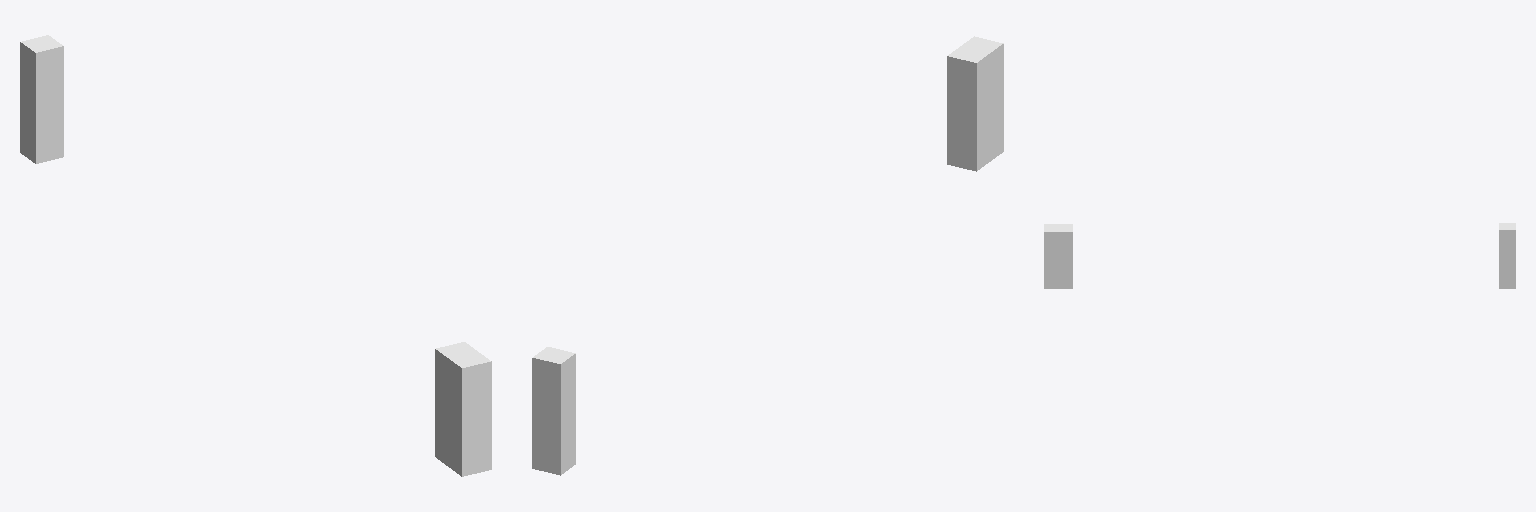
The robot description file, URDF, robot "box":
<?xml version="1.0" ?>
<robot name="box">
  <link name="baseLink">
    <contact>
      <lateral_friction value="1.0"/>
      <rolling_friction value="0.0"/>
      <contact_cfm value="0.0"/>
      <contact_erp value="1.0"/>
    </contact>
    <inertial>
      <origin rpy="0 0 0" xyz="0 0 0"/>
       <mass value="0"/>
       <inertia ixx="1" ixy="0" ixz="0" iyy="1" iyz="0" izz="1"/>
    </inertial>
    <visual>
      <origin rpy="0 0 0" xyz="0 0 0"/>
      <geometry>
        <mesh filename="light_barrier.obj" scale="1 1 1"/>
      </geometry>
      <material name="white">
        <color rgba="1 1 1 1"/>
      </material>
    </visual>
    <collision concave="yes">
      <origin rpy="0 0 0" xyz="0 0 0"/>
      <geometry>
        <mesh filename="light_barrier.obj" scale="1 1 1"/>
      </geometry>
    </collision>
  </link>
</robot>

--- Facts derived from the render (not from the file) ---
3 views of the same robot in one strip: view 1: azimuth 30°, elevation 25°; view 2: azimuth 150°, elevation 25°; view 3: azimuth 270°, elevation 25° (orthographic).
Model box with 1 links and 0 joints (none), rooted at baseLink, posed all joints at 0.
Visible links, largest first — view 1: baseLink; view 2: baseLink; view 3: baseLink.
Link boxes in pixels (left/top/right/bottom): baseLink: left=20, top=35, right=491, bottom=476; baseLink: left=532, top=36, right=1003, bottom=475; baseLink: left=1044, top=223, right=1515, bottom=288.
Size in the robot's own frame: 0.0179 by 0.4678 by 0.0649 metres.
Meshes: 1 distinct files referenced, 1 mesh visuals loaded (1 OBJ).